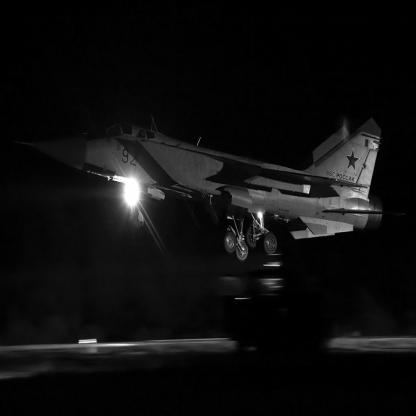Mig31: (13, 115, 405, 265)
